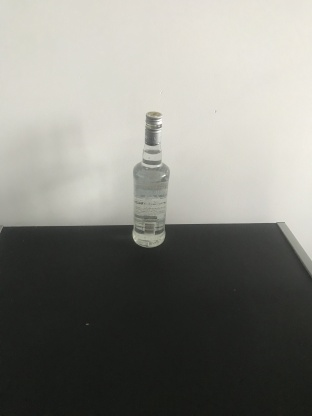nakretka: (143, 110, 163, 146)
